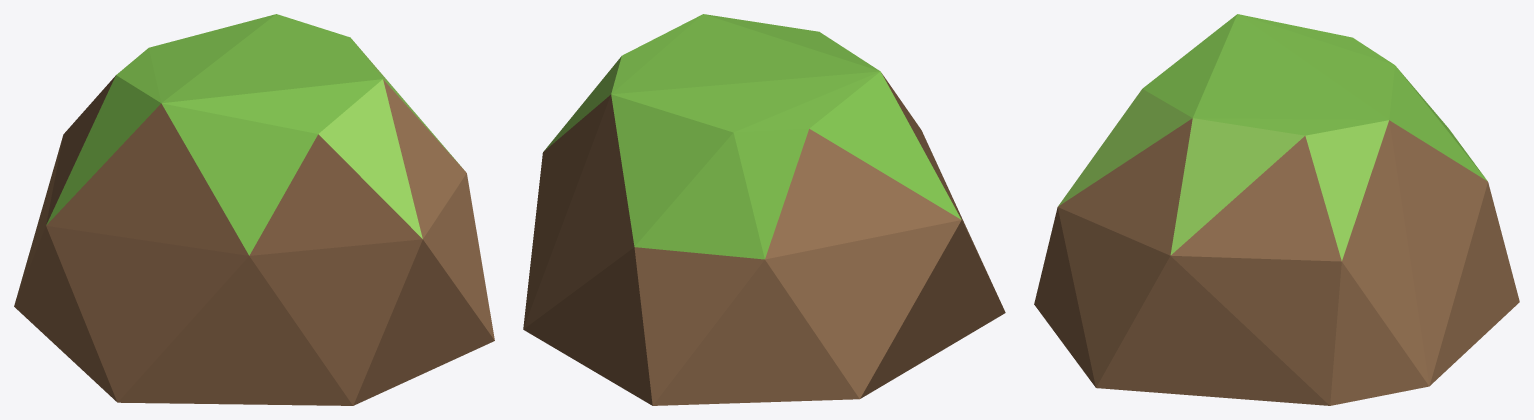
File: rock_smallA.glb
The picture shows the model from 3 angles, left to right: view 1: azimuth 30°, elevation 25°; view 2: azimuth 150°, elevation 25°; view 3: azimuth 270°, elevation 25°; orthographic projection.
Visible parts, largest first — view 1: rock_smallA; view 2: rock_smallA; view 3: rock_smallA.
Boxes of the visible parts, x1,y1,x2,y2 form: rock_smallA: (14,14,494,405); rock_smallA: (523,14,1005,405); rock_smallA: (1034,14,1519,405).
Bounding box in the file's own units: 0.3146 × 0.1887 × 0.3361.
Materials: 1 (1 with a texture image).
